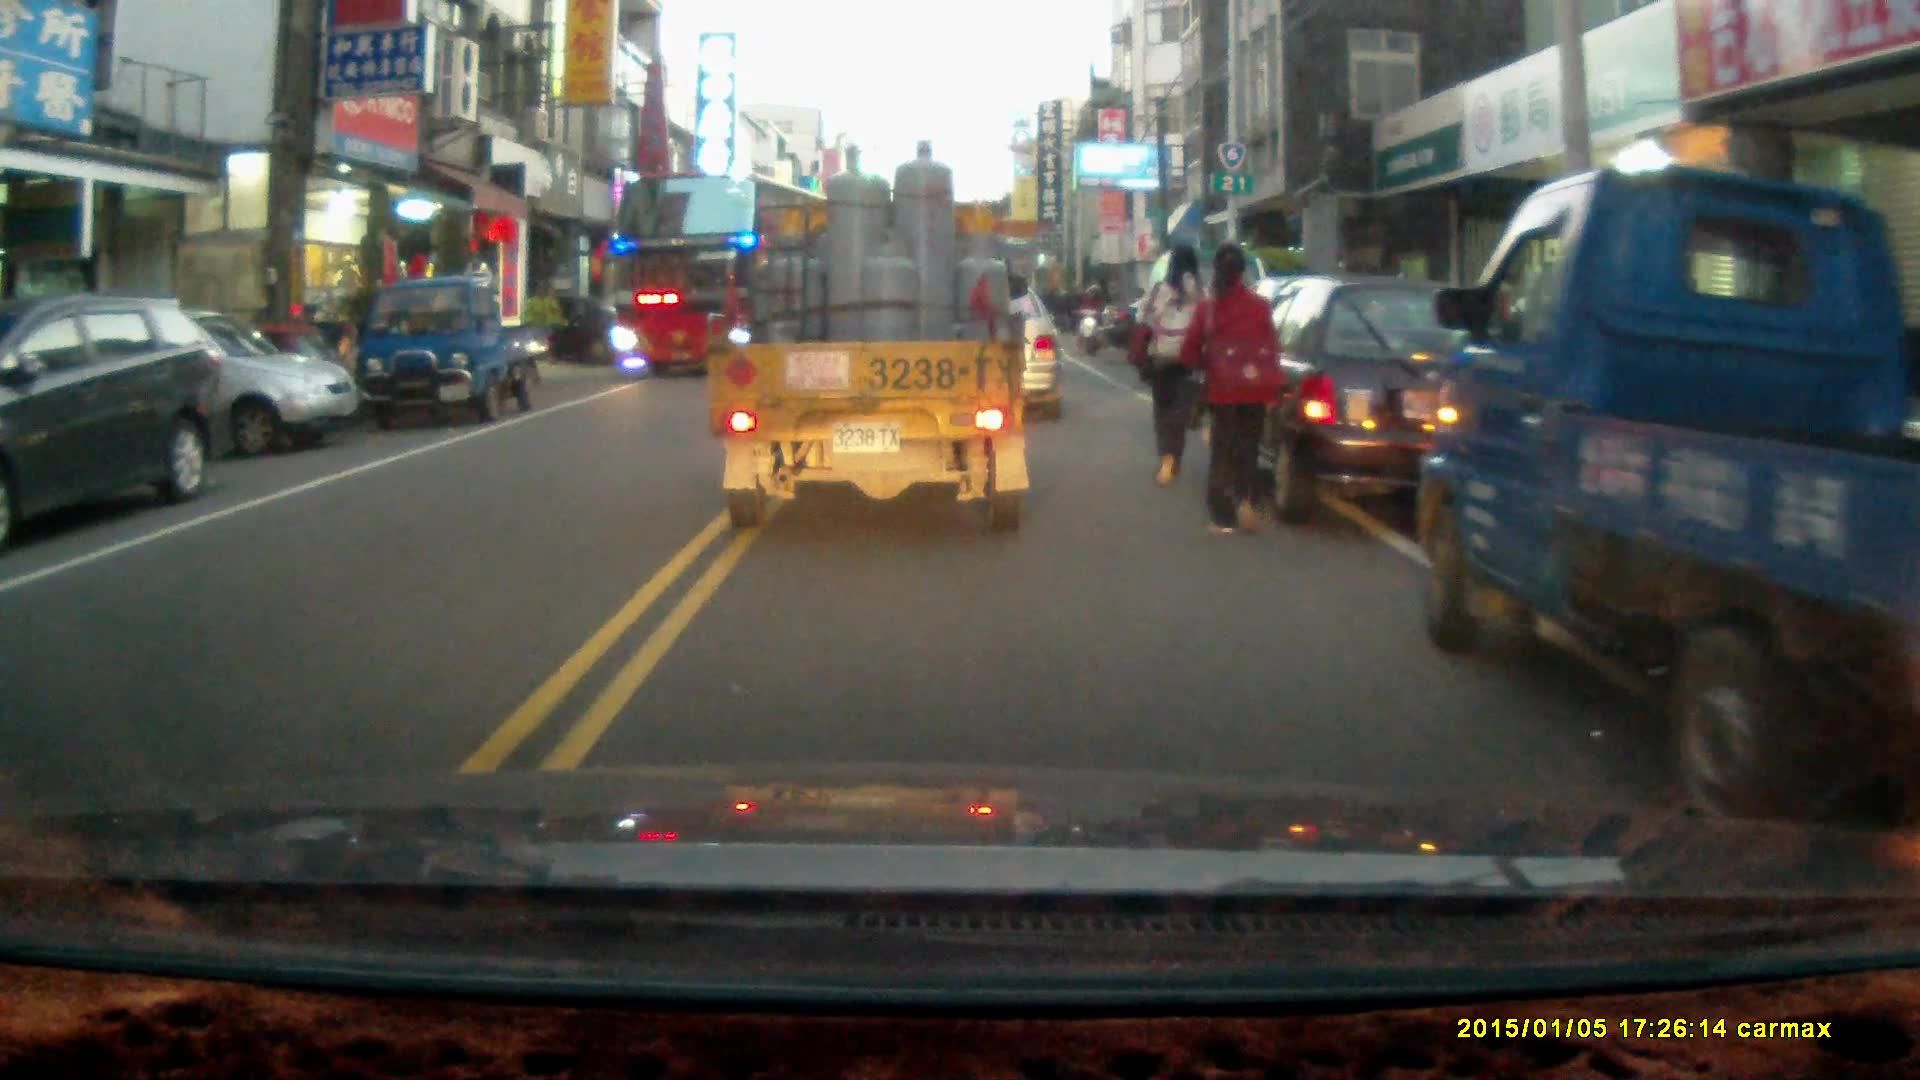pedestrian: (1178, 244, 1291, 542), (1128, 239, 1214, 486)
rider: (1077, 280, 1113, 354)
vehicle: (1413, 159, 1920, 822), (708, 135, 1038, 537), (1230, 277, 1556, 538), (1, 286, 235, 540), (609, 166, 863, 381), (20, 303, 349, 462), (354, 276, 546, 421)
